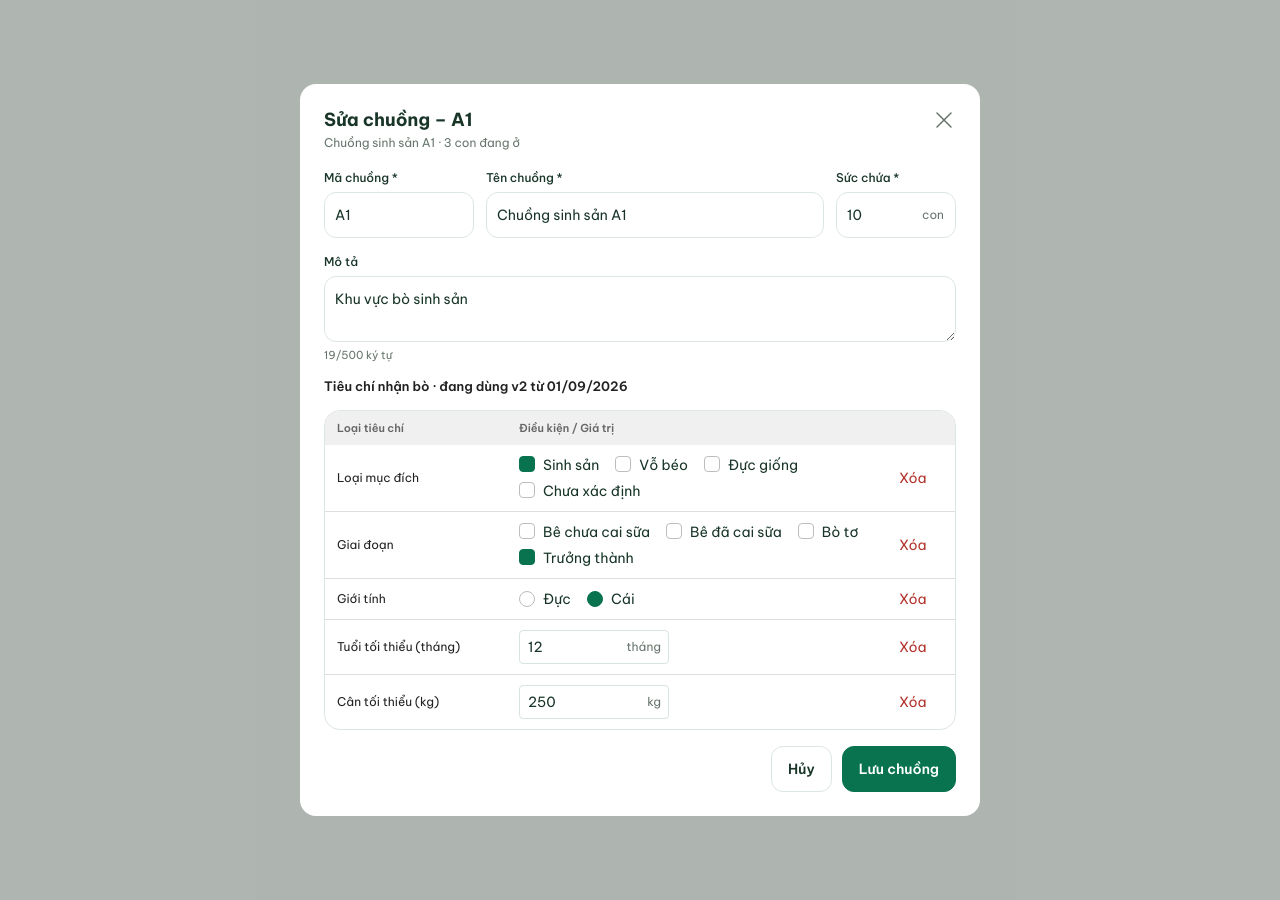
Test case: Edit Pen criteria version note (R-04-06) › warns about v{n+1} only when the criteria change
This screenshot has width=1280, height=900.
expect the text "Tiêu chí nhận bò · đang dùng v2 từ 01/09/2026" is shown: met, box 324,378 -> 628,394
Type " mới" into the field below "Tên chuồng *". click: [655, 215]
box: 486,192 -> 824,238
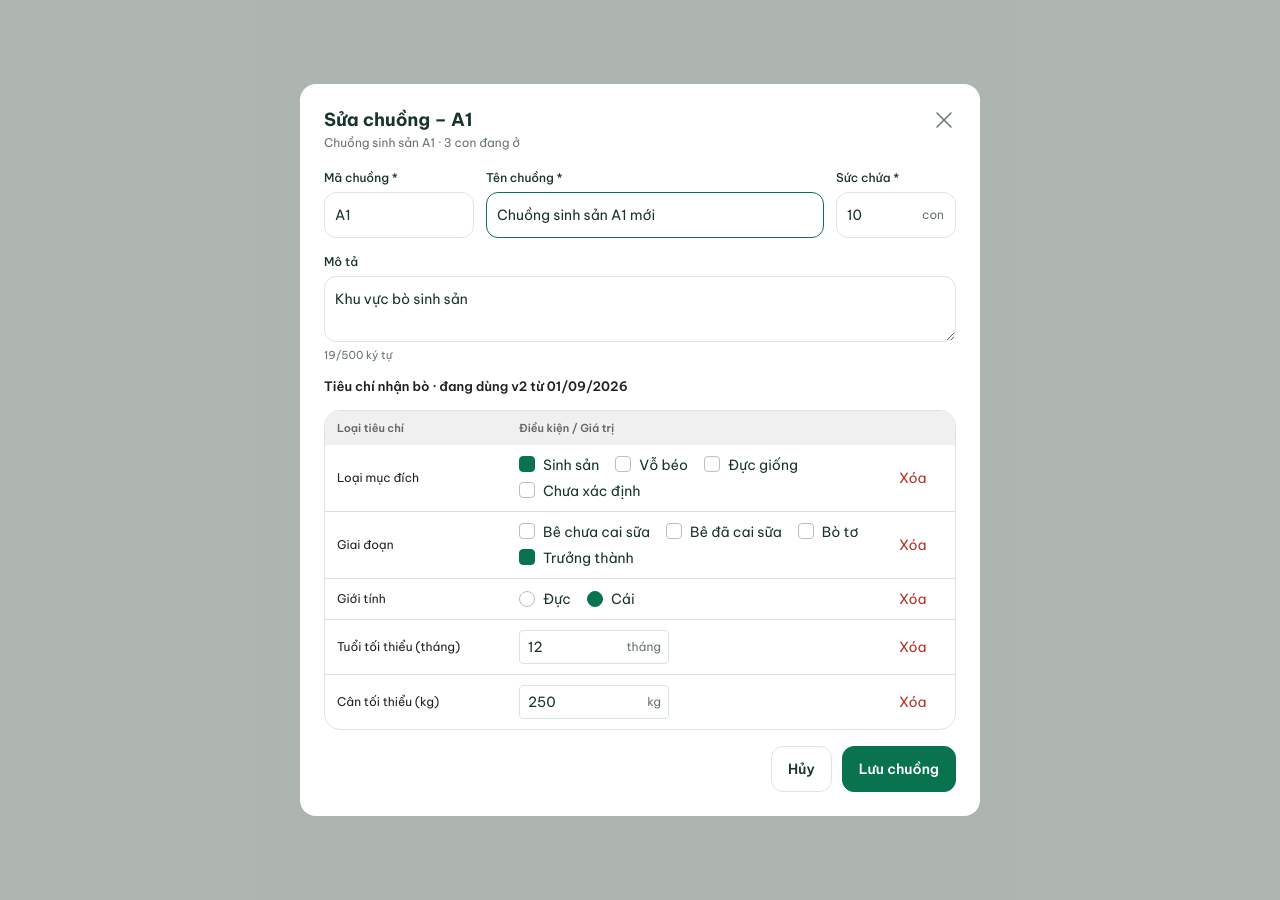
expect the text "sẽ tạo phiên bản v3" is not shown: met
Click the button "Xóa" in the row of "Loại mục đích". click: [913, 478]
box: 899,468 -> 927,488
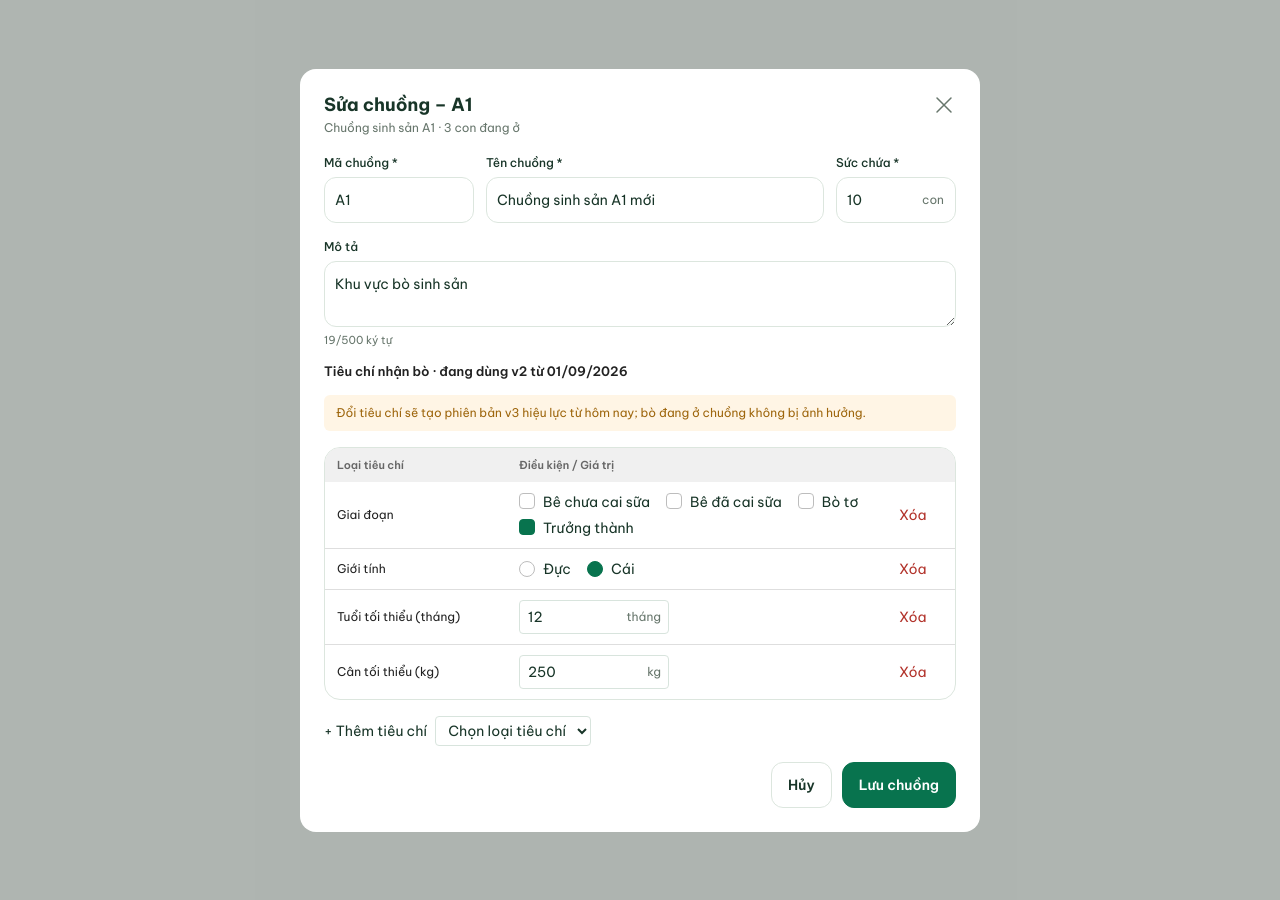
expect the text "Đổi tiêu chí sẽ tạo phiên bản v3" is shown: met, box 324,394 -> 956,430
